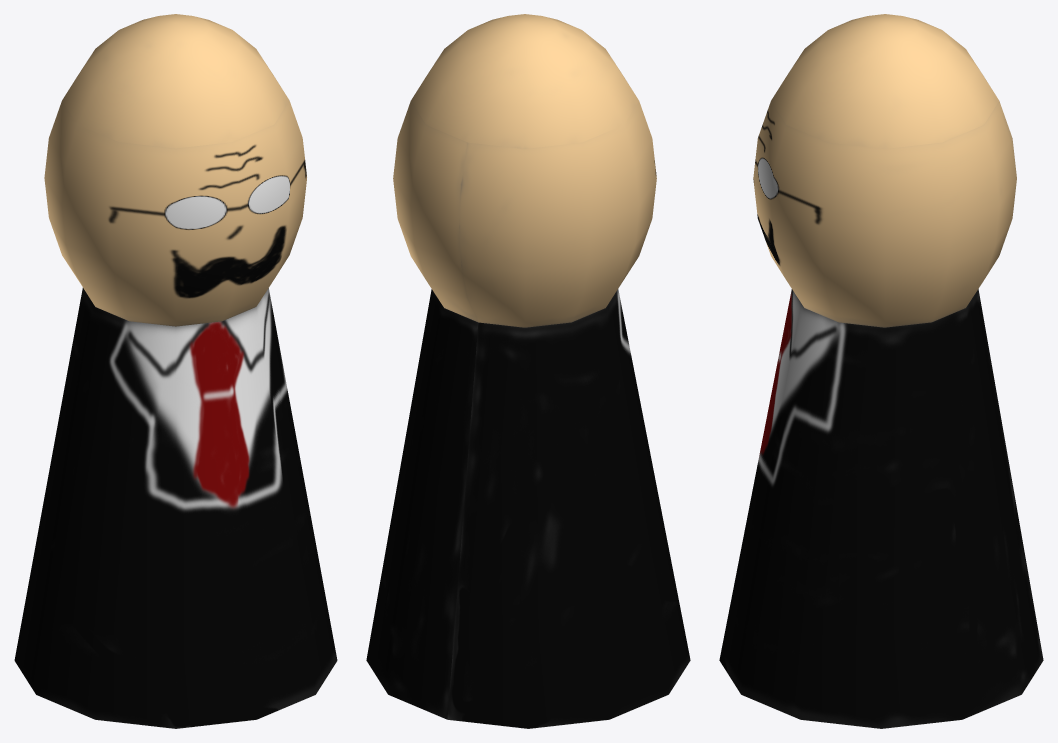
File: Chara_Ossan (2).fbx
3 renders of one model, left to right at view 1: azimuth 30°, elevation 25°; view 2: azimuth 150°, elevation 25°; view 3: azimuth 270°, elevation 25°, orthographic.
Parts seen in each view (by area): view 1: pSphere2; view 2: pSphere2; view 3: pSphere2.
Part boxes in pixels (box(x1,y1,x2,y2)): pSphere2: box(14, 14, 337, 728); pSphere2: box(366, 14, 690, 728); pSphere2: box(719, 14, 1043, 728).
Bounding box in the file's own units: 2.3 × 5 × 2.3.
Materials: 1 (1 with a texture image).
